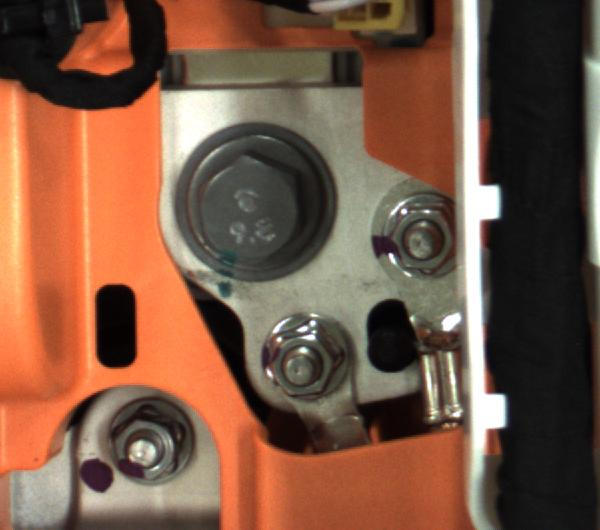nut_b: (166, 113, 348, 286)
screw_s: (257, 312, 364, 407), (102, 396, 196, 487), (380, 195, 464, 281)
